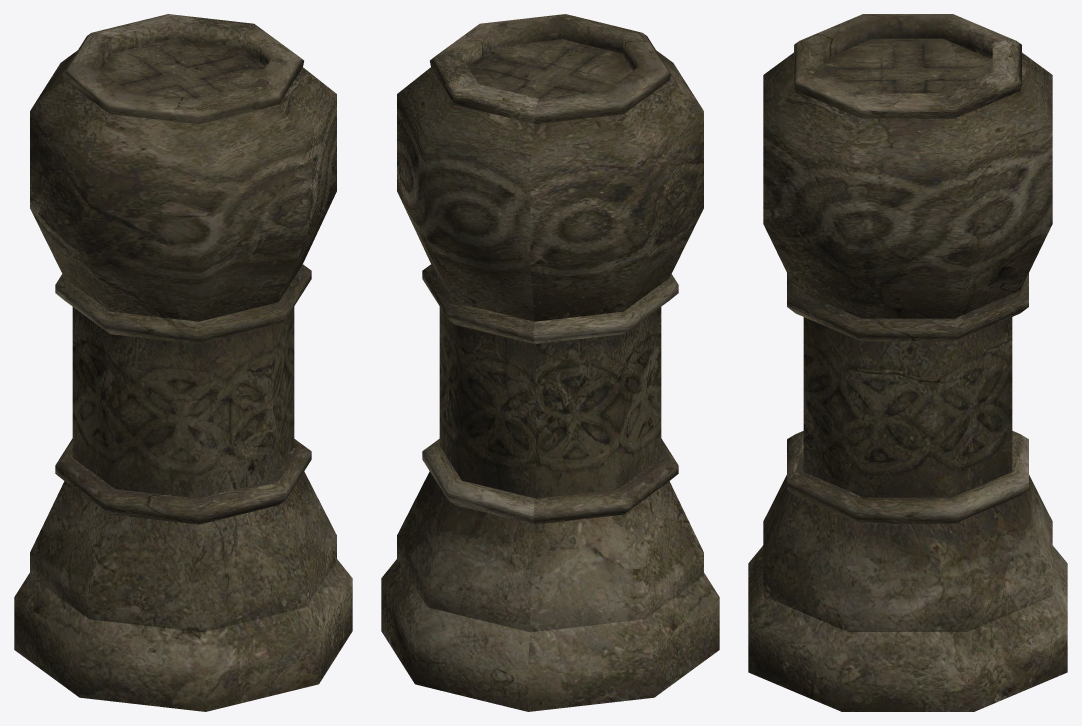
Rendered from welder_worn_amfp.dae.
3 renders of one model, left to right at view 1: azimuth 30°, elevation 25°; view 2: azimuth 150°, elevation 25°; view 3: azimuth 270°, elevation 25°, orthographic.
Visible parts, largest first — view 1: castlebase_stair_welder; view 2: castlebase_stair_welder; view 3: castlebase_stair_welder.
Boxes of the visible parts, left/top/right/bottom form: castlebase_stair_welder: left=14, top=14, right=352, bottom=711; castlebase_stair_welder: left=381, top=14, right=719, bottom=711; castlebase_stair_welder: left=748, top=14, right=1067, bottom=711.
Bounding box in the file's own units: 0.9166 × 1.86 × 0.9166.
